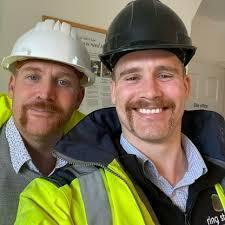helmet: (0, 19, 96, 87), (98, 0, 198, 64)
